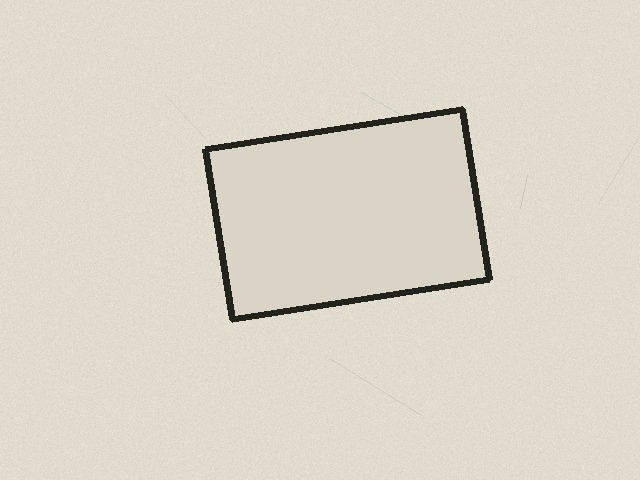parking_area: (205, 109, 489, 319)
